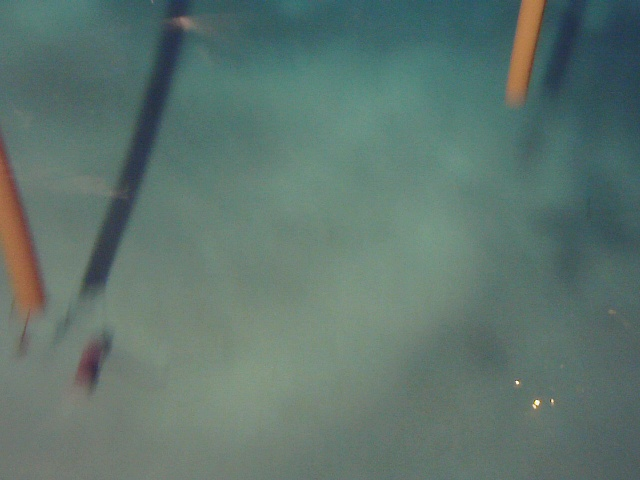Gate: (1, 154, 51, 316), (501, 1, 544, 116)
